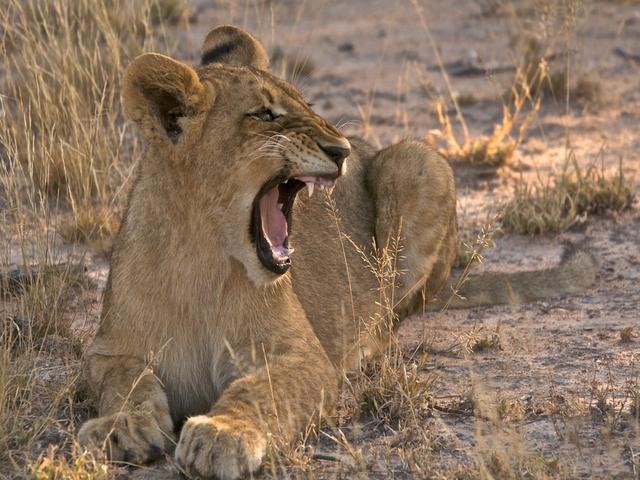lion: (57, 26, 519, 467)
